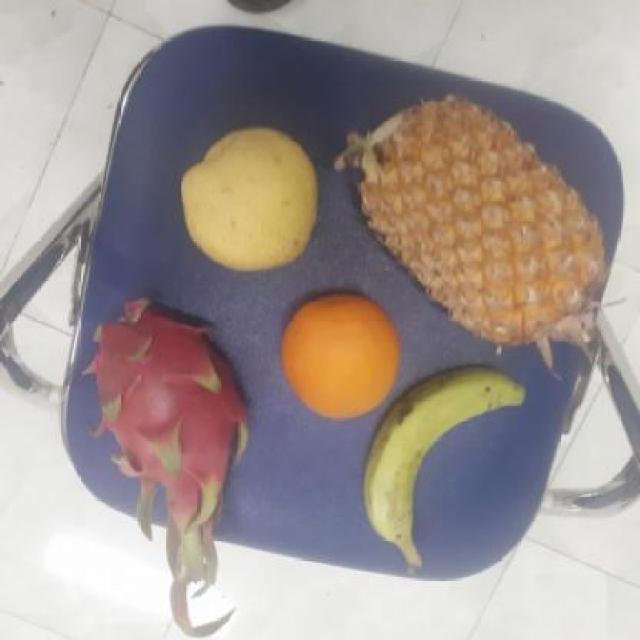banana: (367, 366, 518, 557)
dragon fruit: (69, 299, 256, 523)
guava: (180, 128, 326, 272)
oren: (278, 290, 404, 421)
pineapple: (353, 89, 615, 346)
